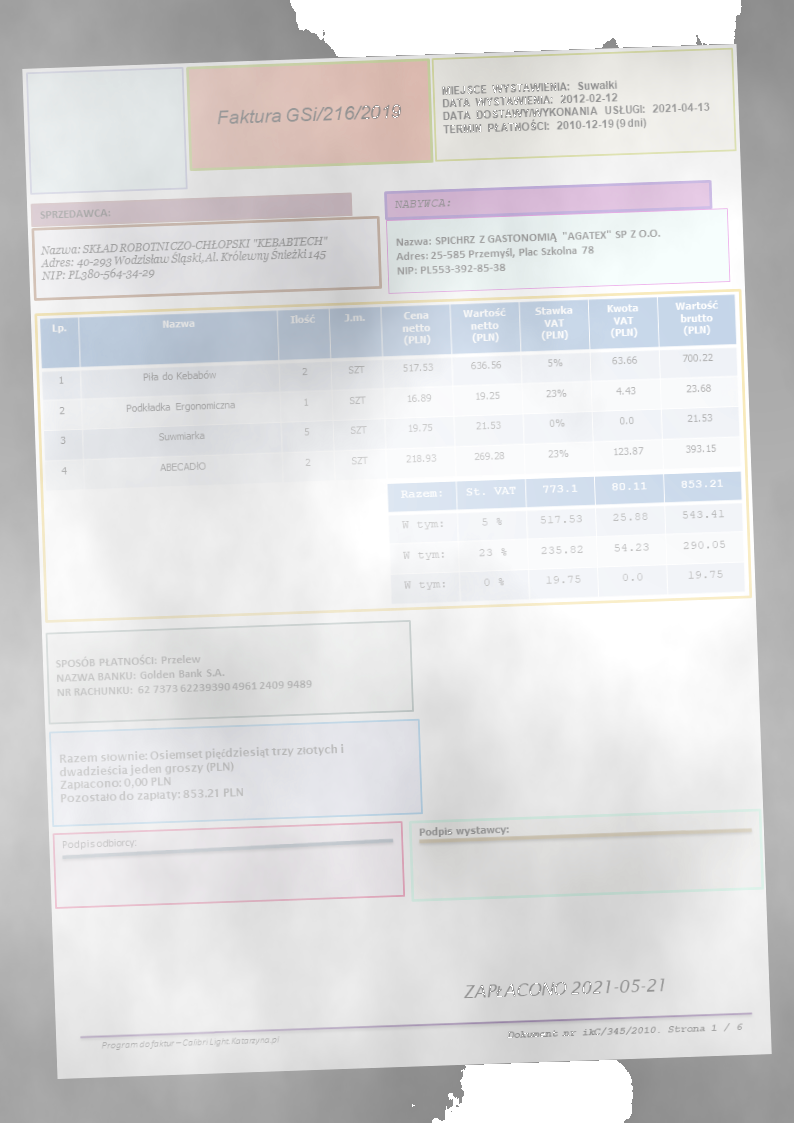Table: (38, 293, 741, 492), (386, 471, 746, 605)
TextBox: (57, 741, 348, 806), (440, 73, 711, 136), (38, 234, 333, 284), (394, 227, 664, 277), (54, 647, 313, 699), (460, 974, 667, 1004), (504, 1020, 745, 1042), (214, 101, 402, 127), (99, 1033, 282, 1053), (416, 822, 511, 840), (59, 835, 138, 853), (37, 205, 111, 221), (393, 196, 451, 211)
